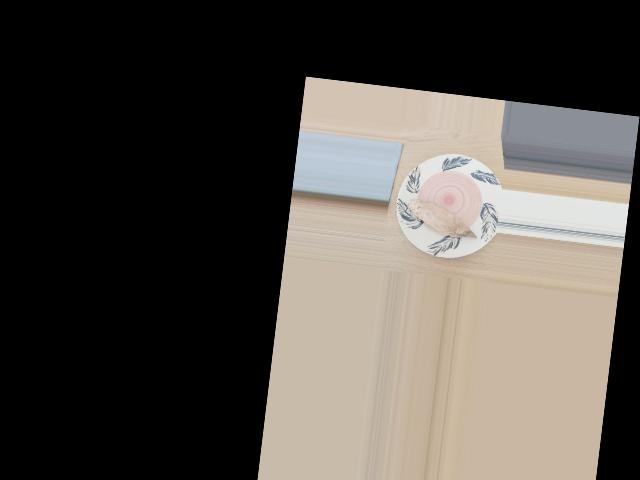sweet_potato: (409, 196, 473, 239)
